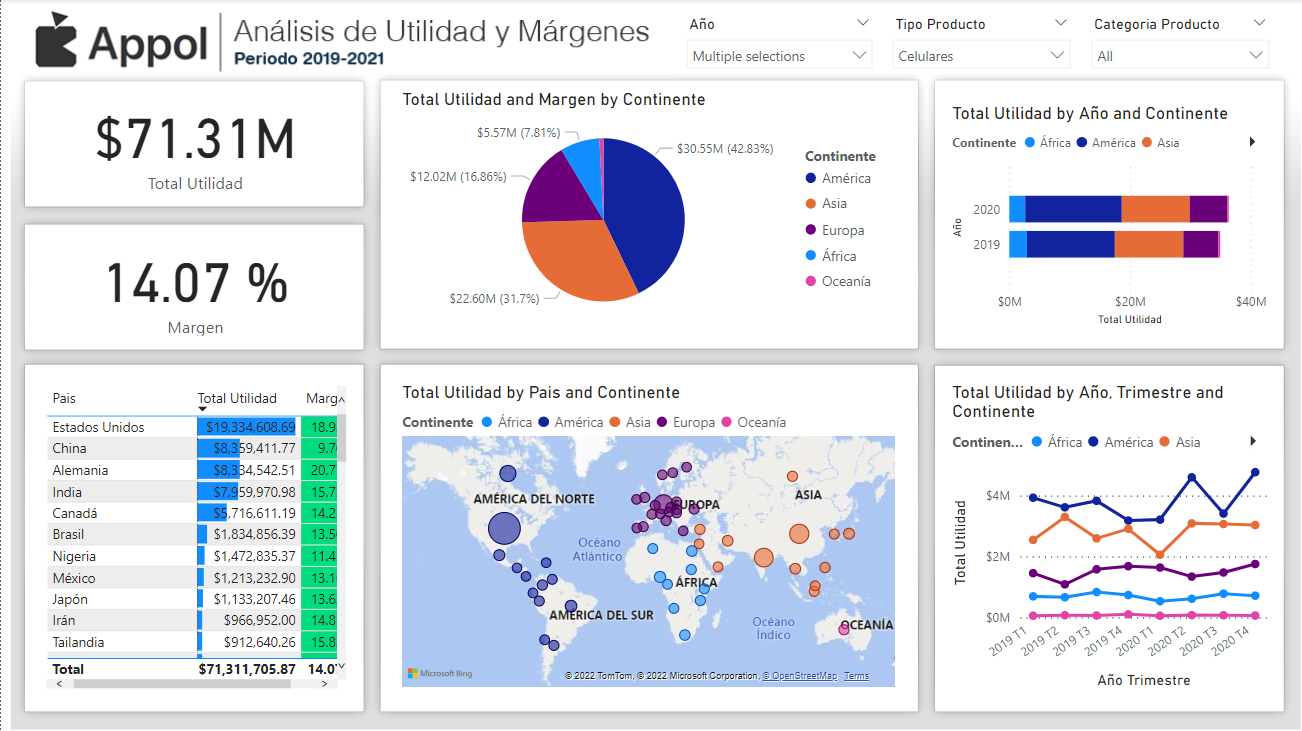

This screenshot's page, from the dashboard's own definition file:
{"tool":"powerbi","page":{"name":"AppolReport","canvas":[1280,720],"ordinal":0},"visuals":[{"type":"image","box":[0,0,1280,719.7],"z":0},{"type":"card","fields":{"Values":["Tabla Datos.Total Utilidad"]},"box":[50.1,86.4,280,107.2],"z":1000},{"type":"card","fields":{"Values":["Tabla Datos.Margen"]},"box":[50.1,228.4,280,105.9],"z":2000},{"type":"pieChart","fields":{"Y":["Tabla Datos.Total Utilidad"],"Category":["Tabla Datos.Continente"]},"box":[387.2,87.7,491.7,236.8],"z":3000},{"type":"barChart","fields":{"Y":["Tabla Datos.Total Utilidad"],"Series":["Tabla Datos.Continente"],"Category":["Tabla Datos.Año"]},"box":[924.8,101.7,317.6,222.9],"z":4000},{"type":"tableEx","fields":{"Values":["Tabla Datos.Pais","Tabla Datos.Total Utilidad","Tabla Datos.Margen"]},"box":[39,374.7,303.6,305],"z":5000},{"type":"map","fields":{"Category":["Tabla Datos.Pais"],"Size":["Tabla Datos.Total Utilidad"],"Series":["Tabla Datos.Continente"]},"box":[387.2,374.7,491.7,305],"z":6000},{"type":"lineChart","fields":{"Y":["Tabla Datos.Total Utilidad"],"Category":["Tabla Datos.Año","Tabla Datos.Trimestre"],"Series":["Tabla Datos.Continente"]},"box":[924.8,374.7,319,305],"z":7000},{"type":"slicer","fields":{"Values":["Tabla Datos.Año"]},"box":[660.2,11.1,202,61.3],"z":8000},{"type":"slicer","fields":{"Values":["Tabla Datos.Tipo Producto"]},"box":[862.2,11.1,193.6,61.3],"z":9000},{"type":"slicer","fields":{"Values":["Tabla Productos.Categoria Producto"]},"box":[1055.8,11.1,193.6,61.3],"z":10000}]}

Visuals, with their boxes in screenshot pixels (x1, y1, x2, y2), scaled from the page's 1280x720 canvas onto the 1302x731 screenshot:
image: [x1=0, y1=0, x2=1301, y2=730]
card - Tabla Datos.Total Utilidad: [x1=51, y1=88, x2=336, y2=197]
card - Tabla Datos.Margen: [x1=51, y1=232, x2=336, y2=339]
pieChart - Tabla Datos.Total Utilidad x Tabla Datos.Continente: [x1=394, y1=89, x2=894, y2=329]
barChart - Tabla Datos.Total Utilidad x Tabla Datos.Continente: [x1=941, y1=103, x2=1264, y2=330]
tableEx - Tabla Datos.Pais x Tabla Datos.Total Utilidad: [x1=40, y1=380, x2=348, y2=690]
map - Tabla Datos.Pais x Tabla Datos.Total Utilidad: [x1=394, y1=380, x2=894, y2=690]
lineChart - Tabla Datos.Total Utilidad x Tabla Datos.Año: [x1=941, y1=380, x2=1265, y2=690]
slicer - Tabla Datos.Año: [x1=672, y1=11, x2=877, y2=74]
slicer - Tabla Datos.Tipo Producto: [x1=877, y1=11, x2=1074, y2=74]
slicer - Tabla Productos.Categoria Producto: [x1=1074, y1=11, x2=1271, y2=74]
